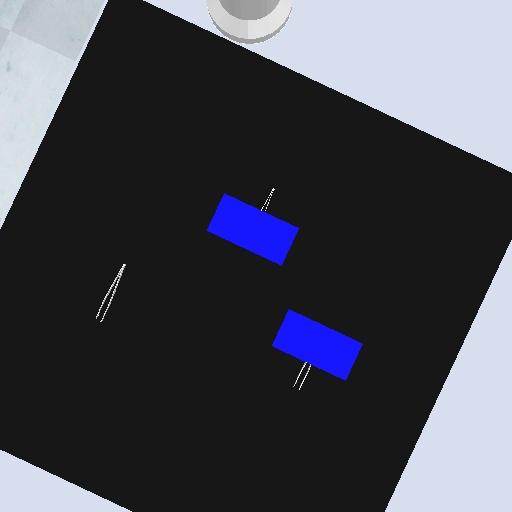pinza: (93, 263, 129, 326), (287, 360, 315, 392), (259, 185, 278, 214)
